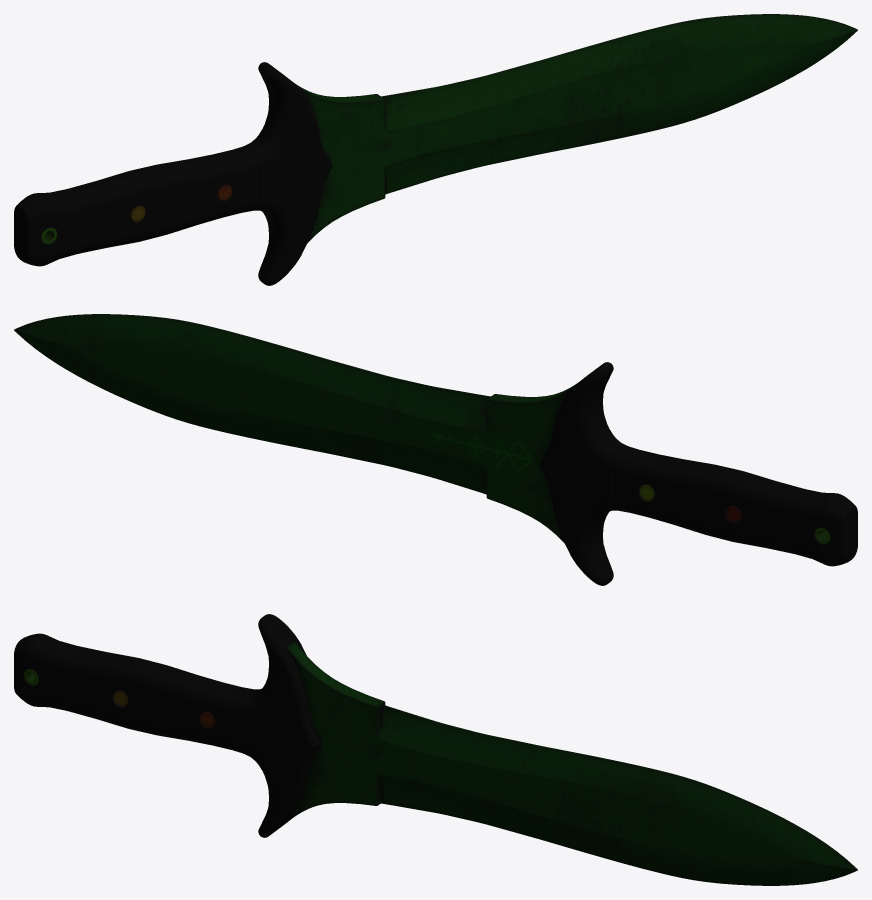
The model's file is stiletto.glb.
3 views of the same model, one above another, from view 1: azimuth 30°, elevation 25°; view 2: azimuth 150°, elevation 25°; view 3: azimuth 330°, elevation 25° (orthographic).
Parts seen in each view (by area): view 1: Object_4; view 2: Object_4; view 3: Object_4.
Part boxes in pixels (<box>): Object_4: <box>14,14,857,285</box>; Object_4: <box>14,314,857,585</box>; Object_4: <box>14,614,857,885</box>.
Bounding box in the file's own units: 4 × 1 × 0.155.
Materials: 1 (1 with a texture image).
